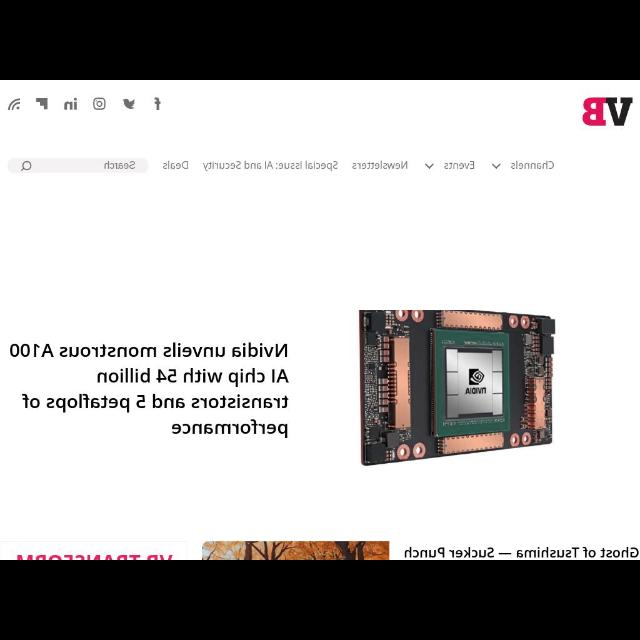button: (20, 160, 32, 173)
icon: (424, 160, 434, 172), (492, 162, 502, 170)
image: (360, 310, 554, 468), (200, 540, 388, 558), (581, 97, 633, 127), (11, 553, 171, 559), (5, 96, 22, 114), (122, 95, 136, 114), (34, 96, 48, 112), (92, 98, 106, 112), (64, 98, 78, 112), (151, 96, 163, 112)
input: (8, 156, 148, 176)
spinner: (490, 160, 554, 174), (422, 160, 476, 172)
text: (10, 342, 288, 436), (404, 546, 638, 558), (204, 160, 338, 172), (508, 160, 554, 172), (352, 160, 406, 170), (162, 160, 188, 172), (104, 160, 134, 170), (444, 162, 474, 170)
